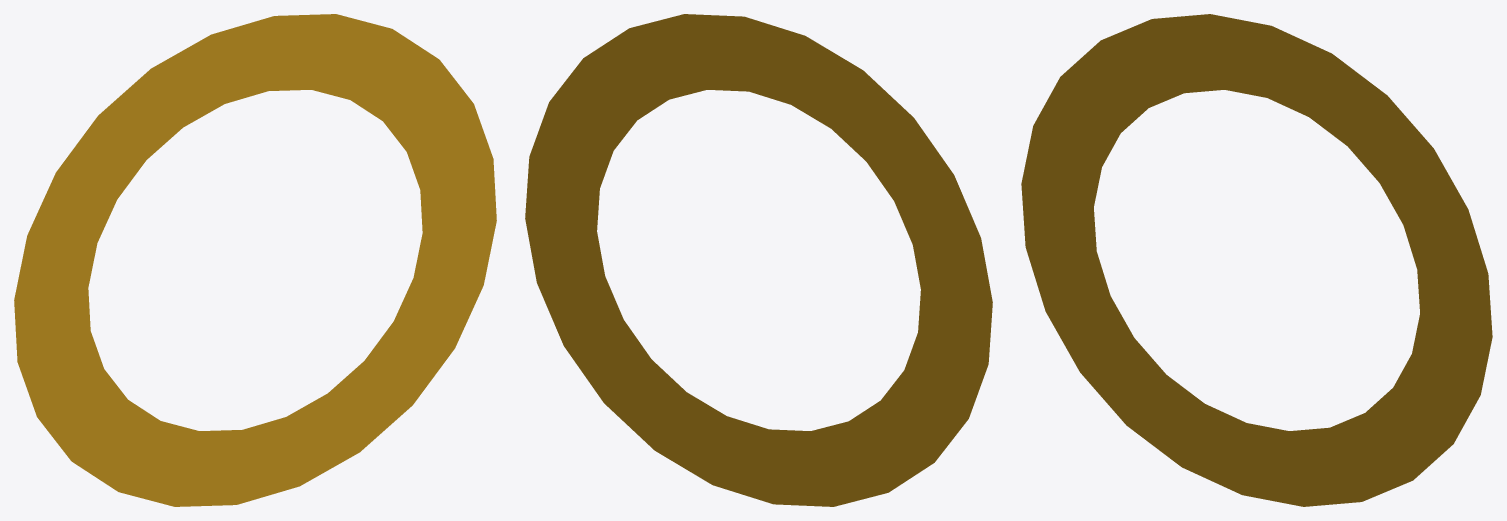
Rendered from original-23.obj.
3 renders of one model, left to right at view 1: azimuth 30°, elevation 25°; view 2: azimuth 150°, elevation 25°; view 3: azimuth 330°, elevation 25°, orthographic.
Parts seen in each view (by area): view 1: #ID164; view 2: #ID164; view 3: #ID164.
Boxes of the visible parts, x1,y1,x2,y2 form: #ID164: (14, 14, 496, 506); #ID164: (525, 14, 992, 506); #ID164: (1021, 14, 1492, 506).
Bounding box in the file's own units: 0.6688 × 0.646 × 0.0138.
